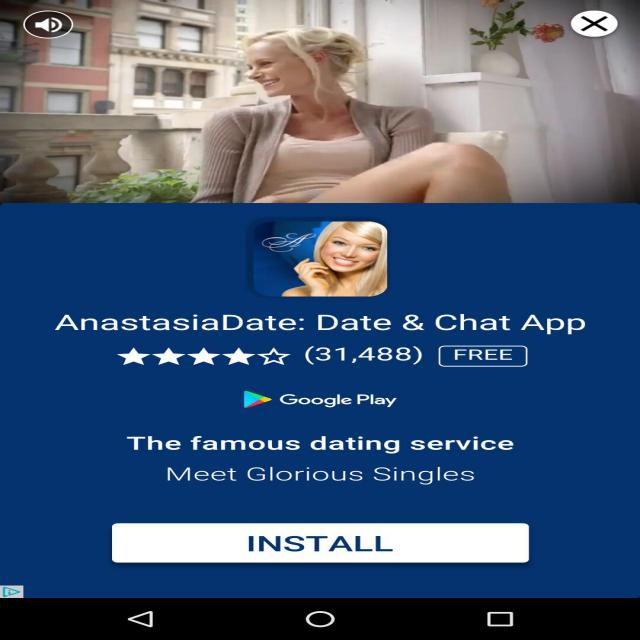button: (100, 496, 640, 534), (123, 524, 552, 566), (164, 512, 552, 526), (576, 501, 580, 559)
image: (20, 14, 606, 176)
